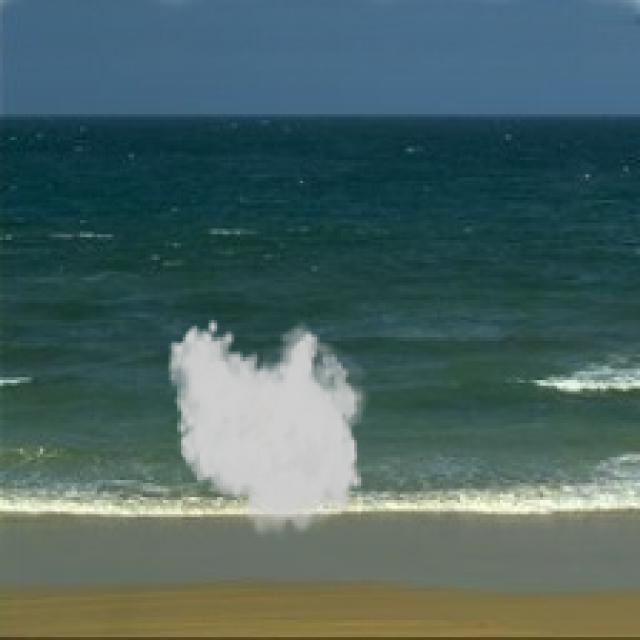smoke: (166, 317, 374, 543)
